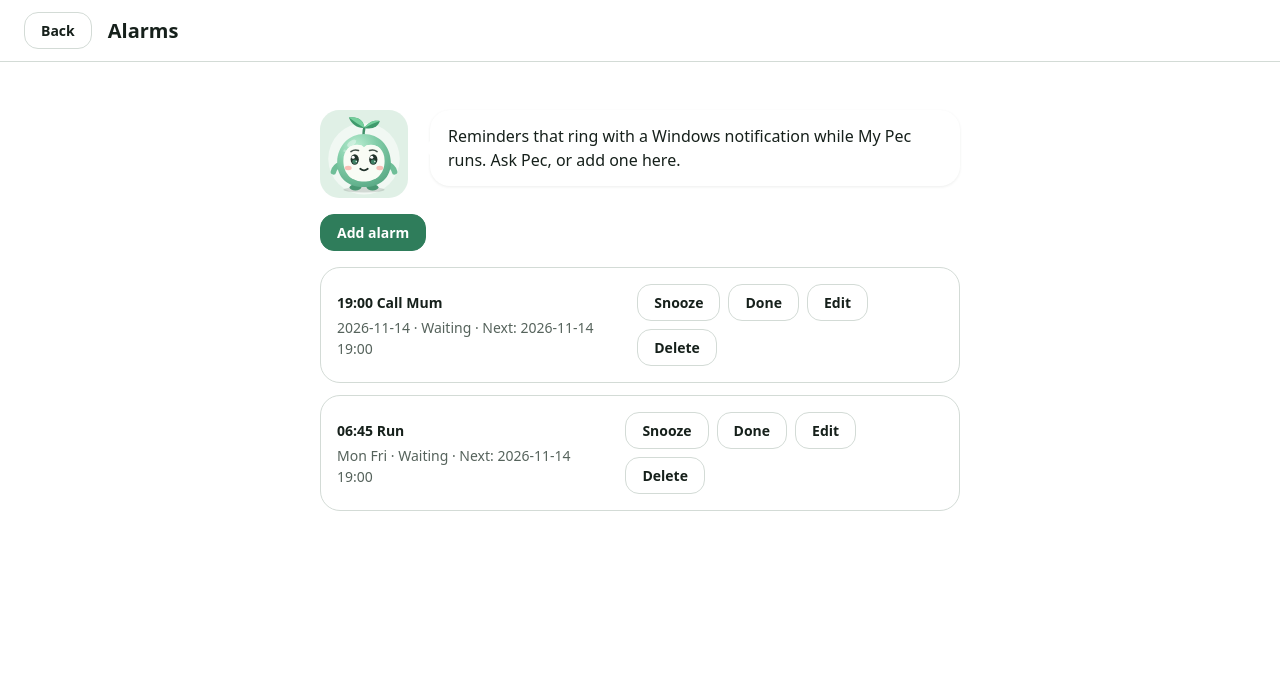
Test case: AlarmsView › snoozes, finishes, edits and deletes from the list
Click the button "Snooze" in the row of "Call Mum" at (679, 302), box 637,284 -> 720,321
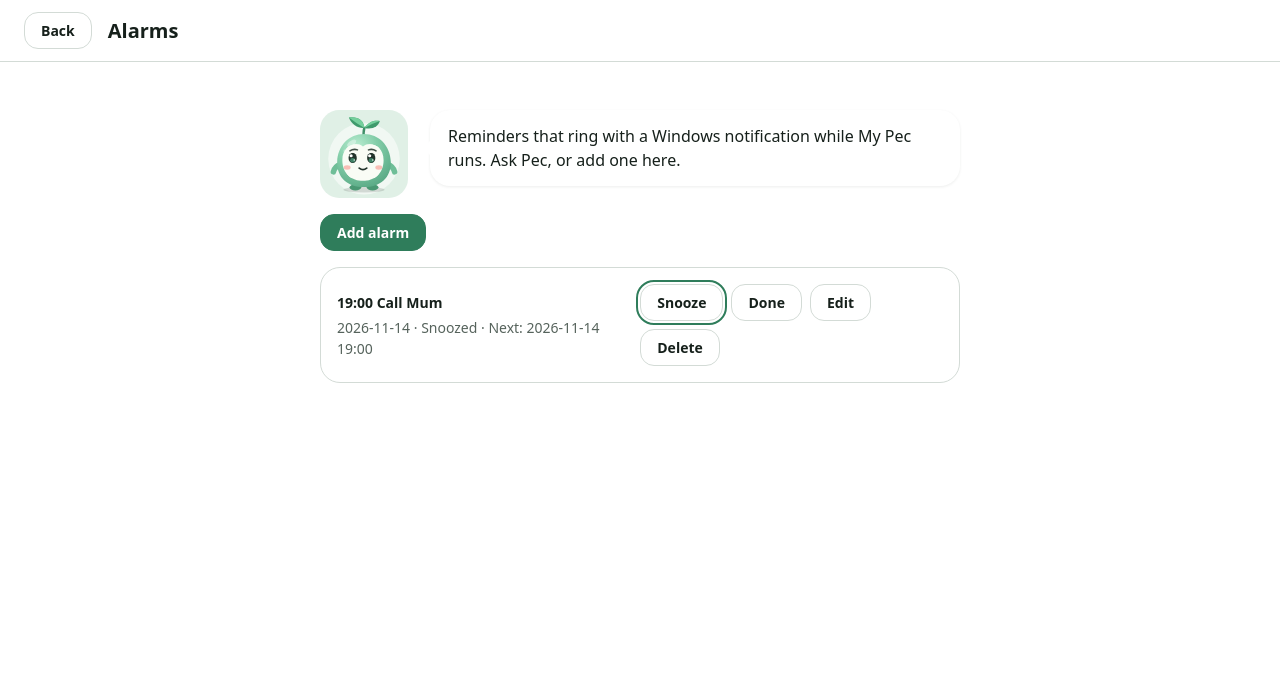
Expected: the text "2026-11-14 · Snoozed · Next: 2026-11-14 19:00" is shown, 337,316 -> 624,358
Click the button "Edit" at (841, 302), box 810,284 -> 871,321
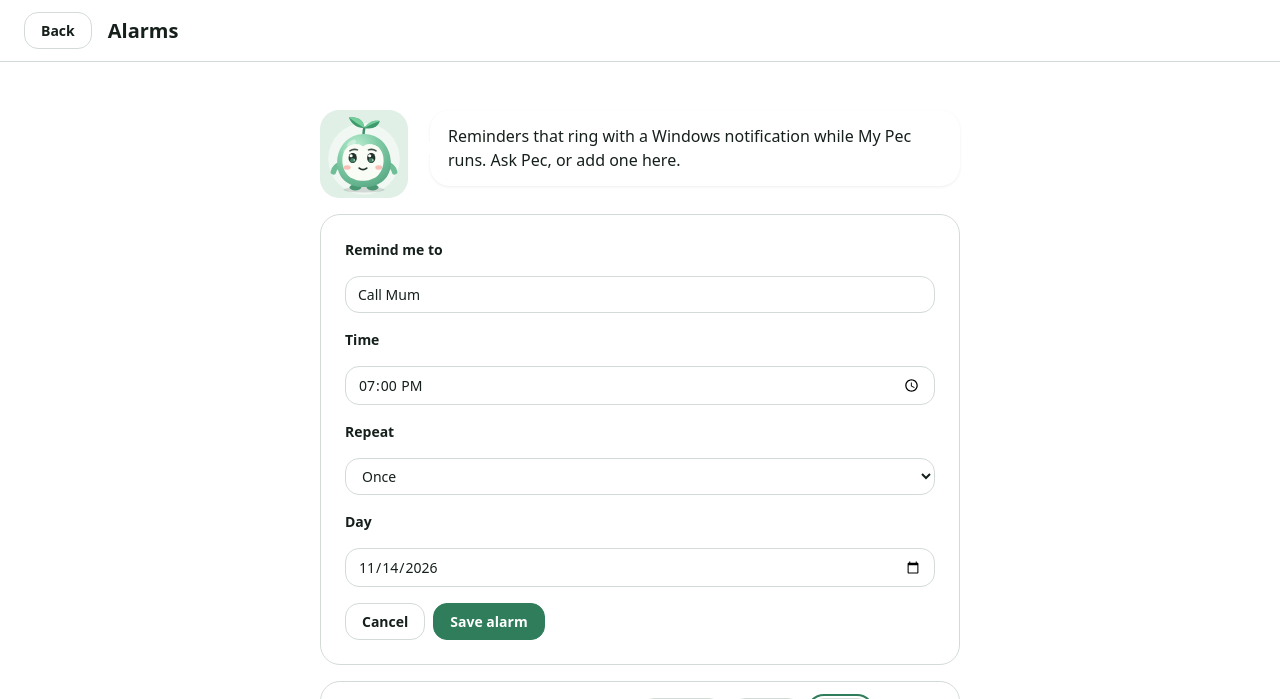
Expected: the field labelled "Remind me to" holds "Call Mum", 345,276 -> 935,313
Expected: the date field labelled "Day" holds "2026-11-14", 345,548 -> 935,587
Click the button "Cancel" at (385, 622), box 345,603 -> 425,640
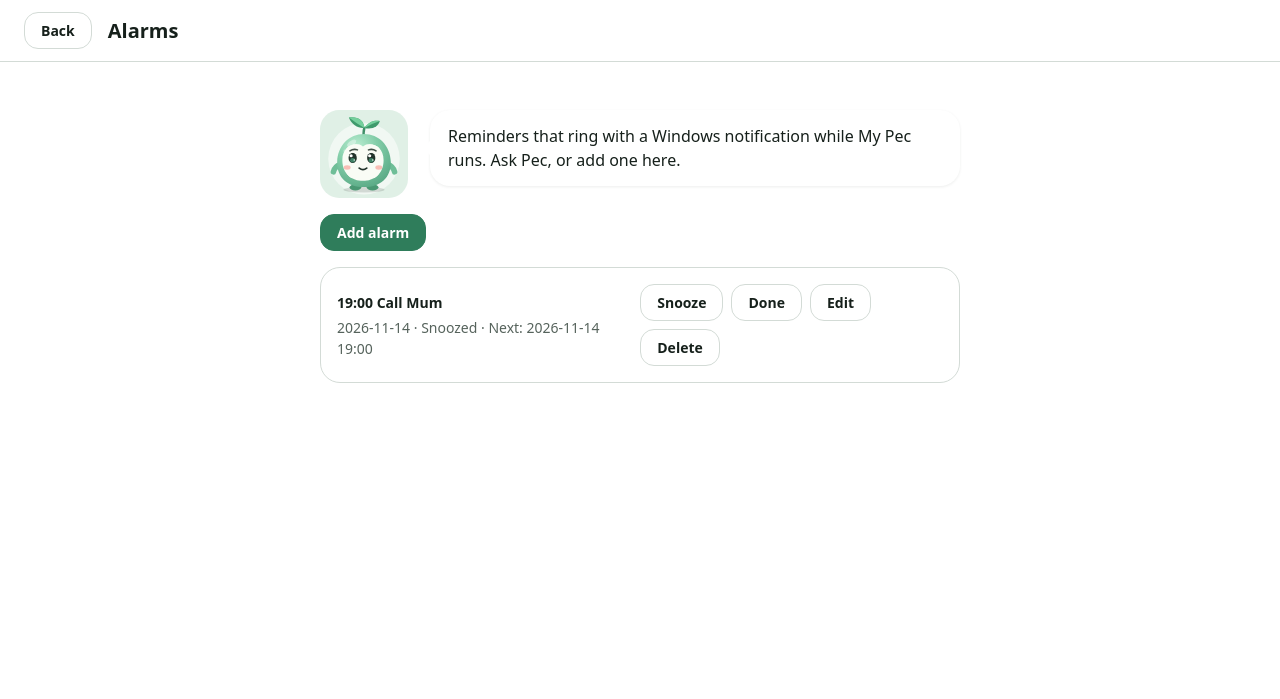
Click the button "Delete" at (680, 348), box 640,329 -> 720,366
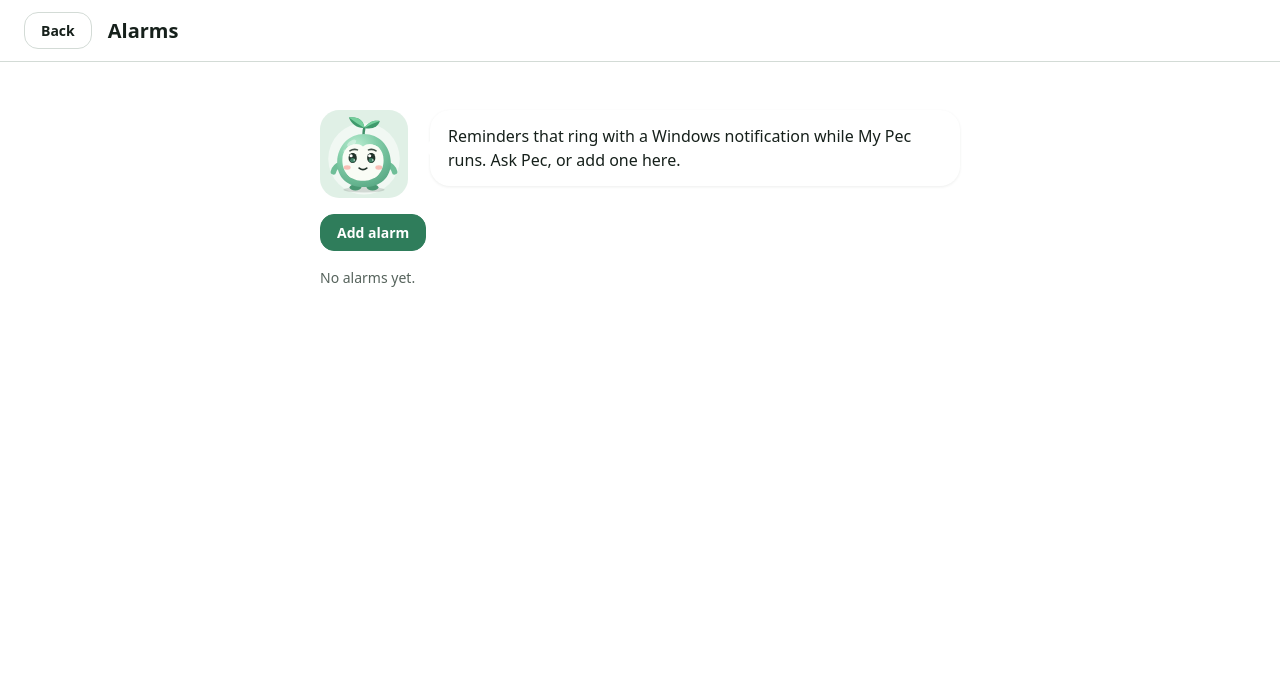
Expected: the text "No alarms yet." is shown, 320,268 -> 415,287
